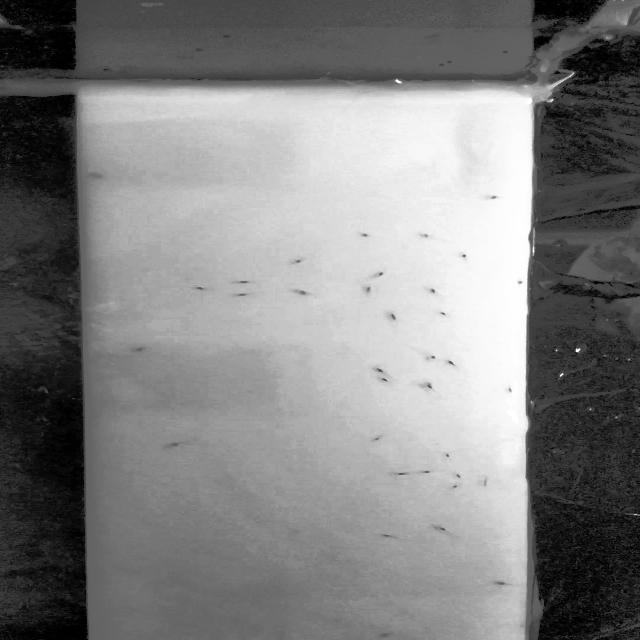shrimp: (400, 226, 438, 245), (344, 226, 371, 244), (365, 268, 396, 283), (363, 429, 388, 446), (478, 190, 504, 205), (450, 247, 472, 264), (126, 344, 152, 358), (190, 284, 218, 296), (429, 523, 453, 537), (165, 440, 189, 453), (290, 255, 310, 270), (501, 385, 522, 399), (419, 379, 438, 393), (372, 629, 396, 640), (294, 287, 316, 298), (437, 450, 455, 463), (229, 277, 252, 287), (426, 288, 449, 298), (444, 358, 462, 369), (392, 466, 407, 479), (450, 469, 465, 482), (356, 285, 380, 293), (383, 313, 402, 323), (418, 468, 435, 479), (378, 530, 396, 540), (372, 365, 389, 375), (380, 374, 392, 387), (237, 290, 256, 298), (436, 310, 451, 319), (478, 477, 491, 487), (447, 482, 463, 490), (493, 579, 507, 588), (424, 354, 439, 361)
